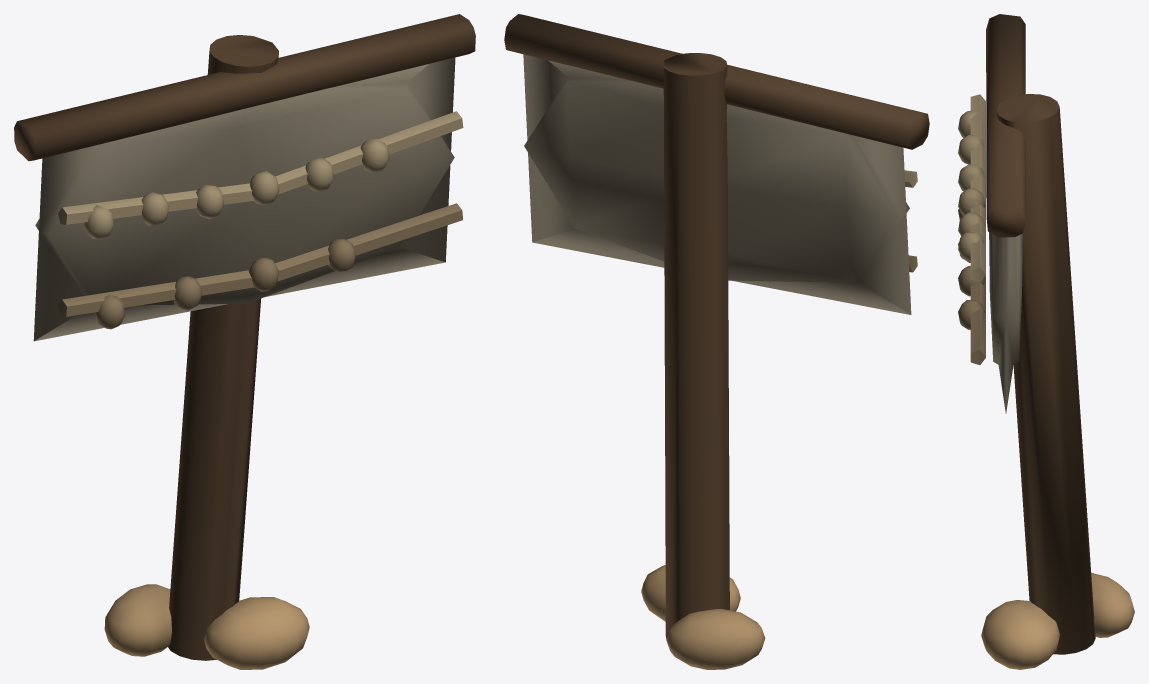
File: knot_board_a_lod1.glb
3 views of the same model, side by side, from view 1: azimuth 30°, elevation 25°; view 2: azimuth 150°, elevation 25°; view 3: azimuth 270°, elevation 25° (orthographic). The views are drawn at different scales.
Parts seen in each view (by area): view 1: Surface.001; view 2: Surface.001; view 3: Surface.001.
Boxes of the visible parts, x1=… form: Surface.001: x1=14, y1=14, x2=475, y2=669; Surface.001: x1=504, y1=14, x2=929, y2=669; Surface.001: x1=958, y1=14, x2=1134, y2=669.
Bounding box in the file's own units: 0.8 × 1.07 × 0.31.
